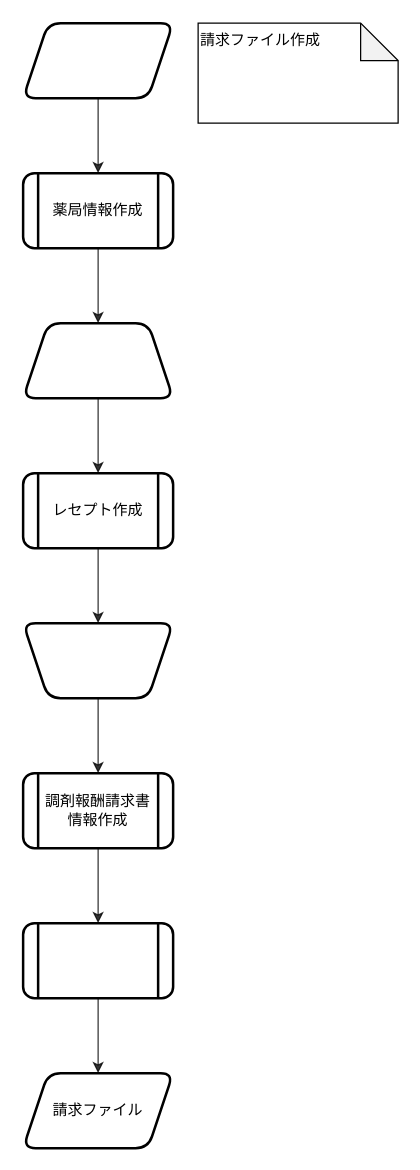
This 420x1170 diagram has some shape labels left out. Here are the shapes that lost their labels. From the top down, the centre of each, then its label:
At point 97,60: "$薬局 $審査支払機関 $請求年月".
At point 97,960: "請求ファイル 作成".
